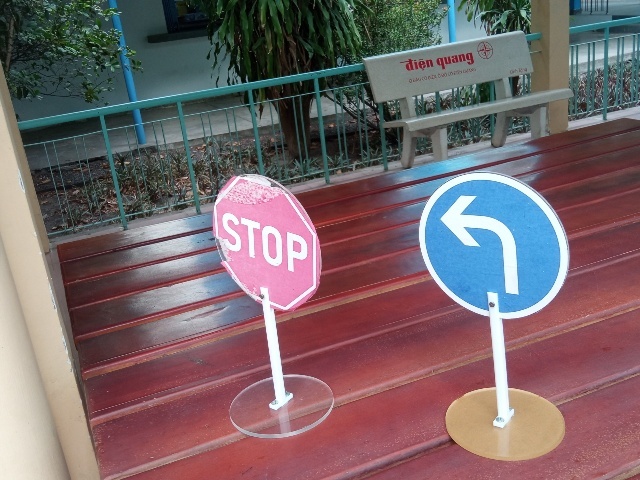Left_Sign: (419, 170, 570, 319)
Stop_Sign: (214, 174, 321, 312)
